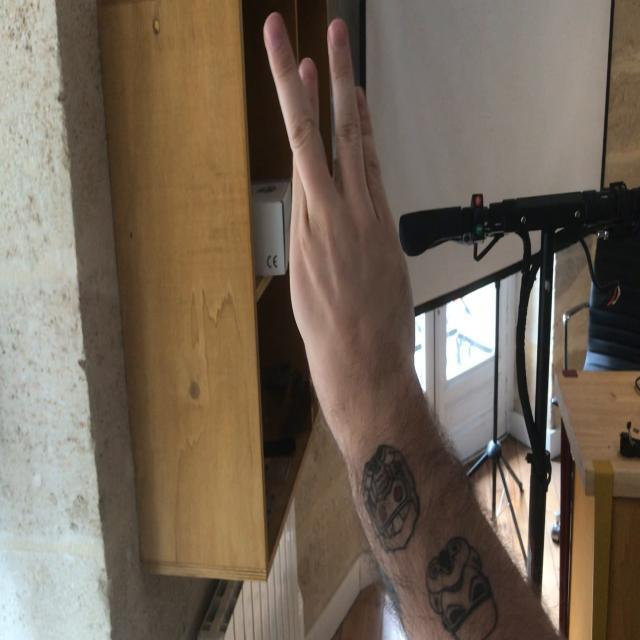no-gloves: (260, 5, 416, 412)
